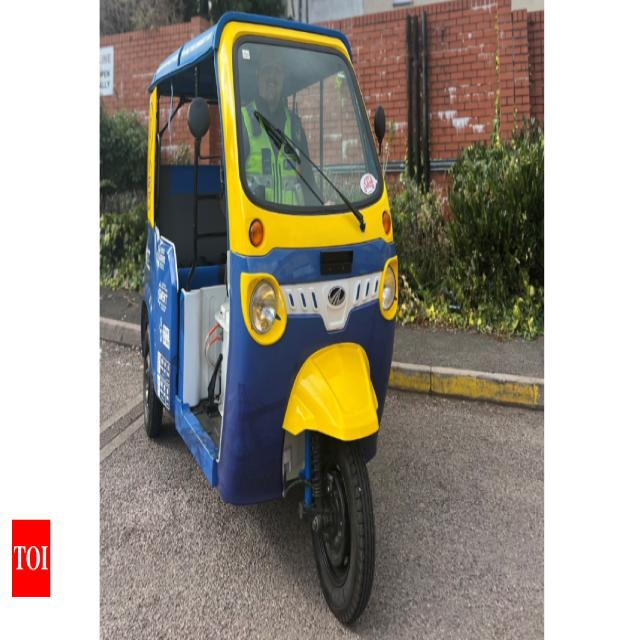autorickshaw: (141, 14, 399, 624)
